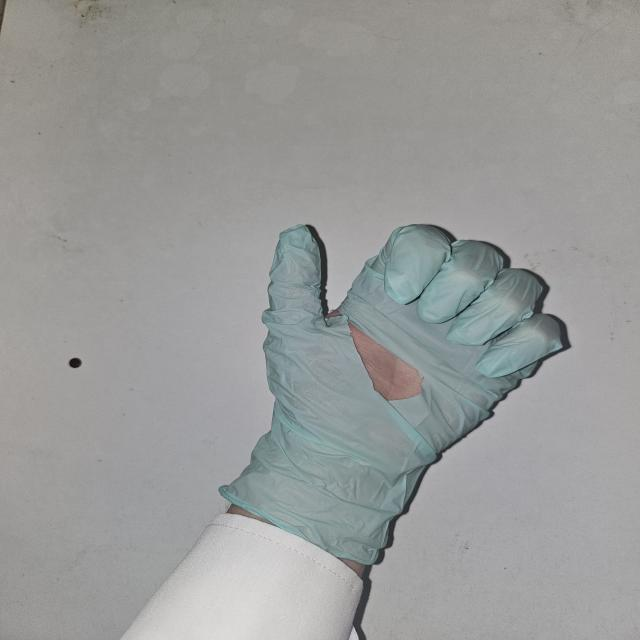gloves_damaged: (213, 219, 573, 564)
